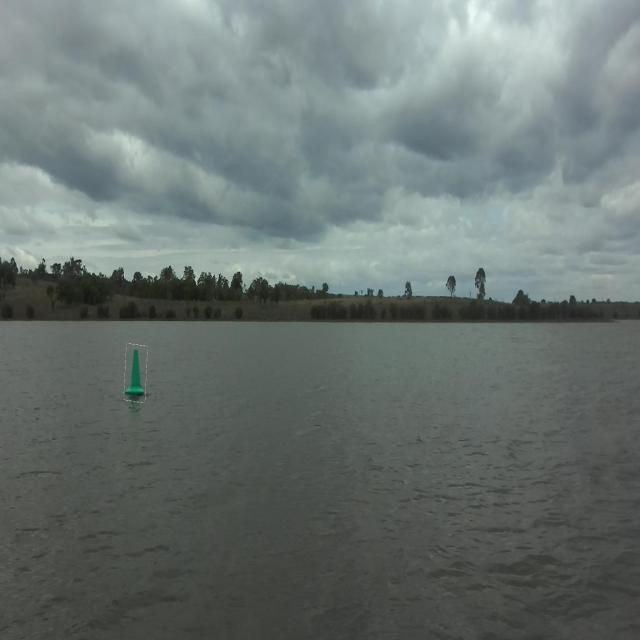Green_Buoy: (125, 344, 149, 404)
